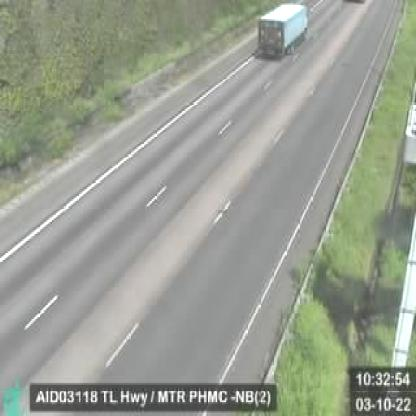Truck: (259, 3, 308, 56)
